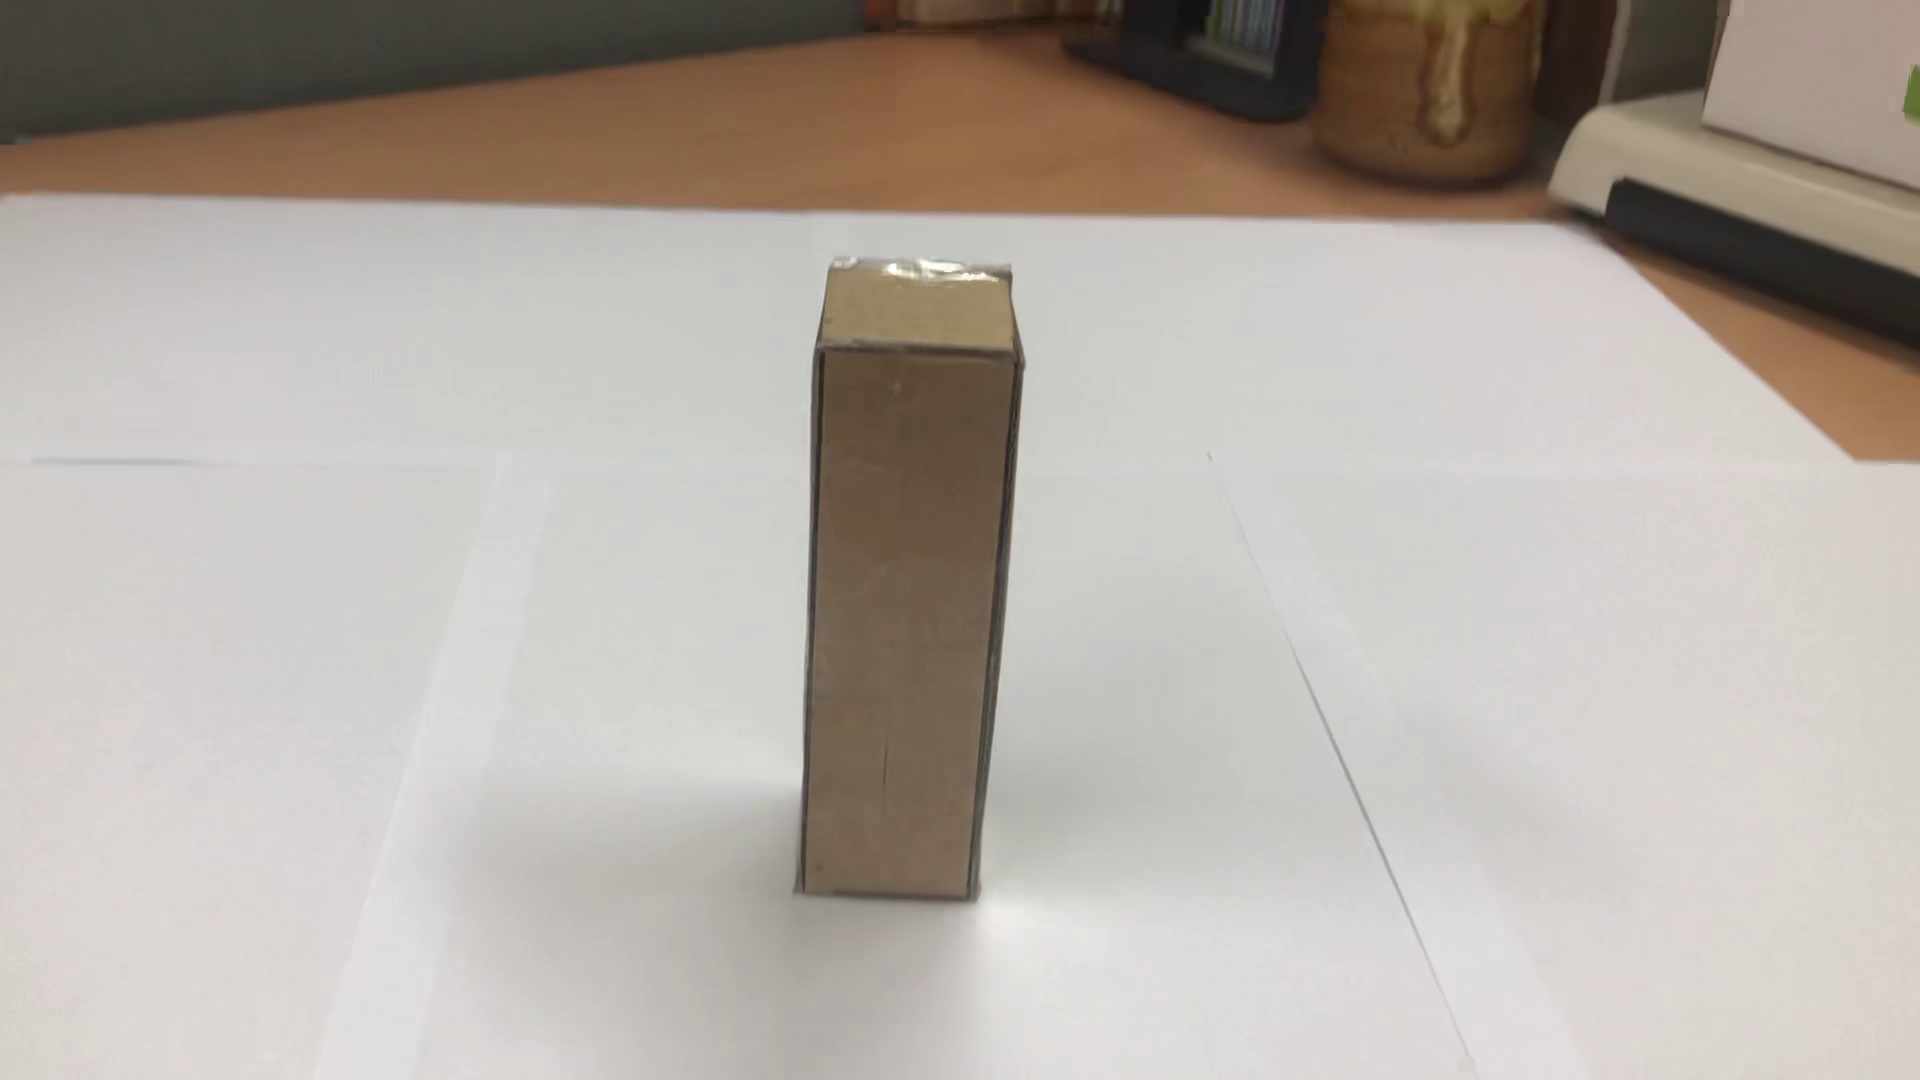box: (735, 223, 1051, 927)
